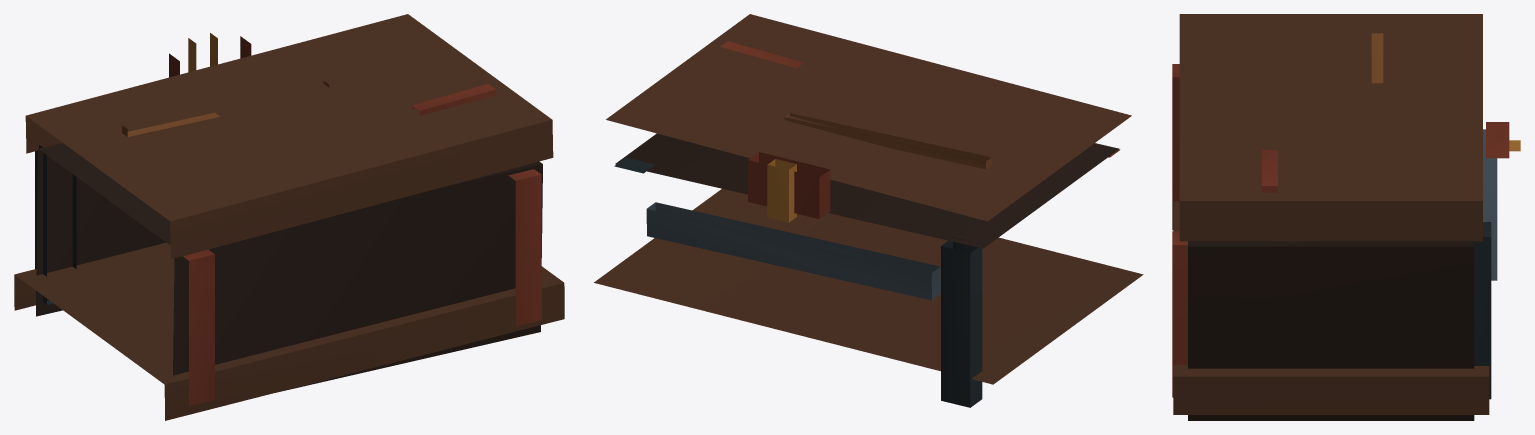
The model's file is bedside_survival_kit_closed.glb.
The picture shows the model from 3 angles, left to right: view 1: azimuth 30°, elevation 25°; view 2: azimuth 150°, elevation 25°; view 3: azimuth 270°, elevation 25°; orthographic projection. The views are drawn at different scales.
Parts seen in each view (by area): view 1: BedsideSurvivalKitClosed_Mesh; view 2: BedsideSurvivalKitClosed_Mesh; view 3: BedsideSurvivalKitClosed_Mesh.
Boxes of the visible parts, box(x1,y1,x2,y2) form: BedsideSurvivalKitClosed_Mesh: box(14, 14, 564, 420); BedsideSurvivalKitClosed_Mesh: box(594, 14, 1143, 407); BedsideSurvivalKitClosed_Mesh: box(1172, 14, 1520, 420).
Bounding box in the file's own units: 1.15 × 0.6199 × 0.8275.
